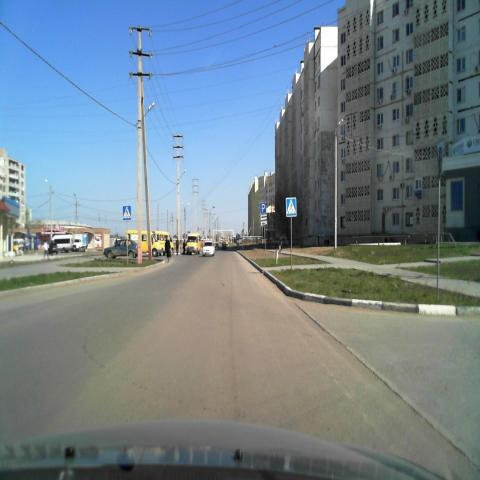5_19_1: (285, 198, 297, 218)
